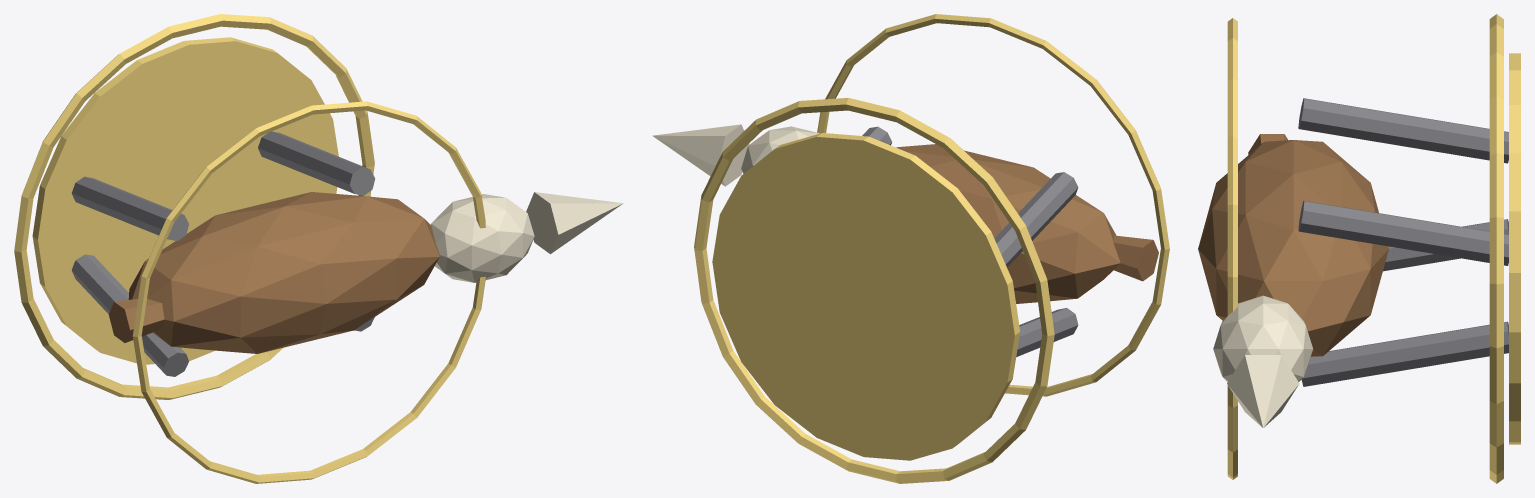
Rendered from city_rat_proxy.glb.
The picture shows the model from 3 angles, left to right: view 1: azimuth 30°, elevation 25°; view 2: azimuth 150°, elevation 25°; view 3: azimuth 270°, elevation 25°; orthographic projection. The views are drawn at different scales.
Parts seen in each view (by area): view 1: marker_disc, body, marker_ring, pounce_arc, head, leg_3, snout, leg_1, leg_0, tail; view 2: marker_disc, marker_ring, body, pounce_arc, snout, leg_1, tail, leg_0, head; view 3: body, marker_ring, leg_1, leg_3, leg_2, head, marker_disc, pounce_arc, snout, leg_0.
Part boxes in pixels (left/top/right/bottom): marker_disc: left=32, top=37, right=338, bottom=364; body: left=128, top=192, right=439, bottom=353; marker_ring: left=14, top=14, right=374, bottom=399; pounce_arc: left=132, top=101, right=485, bottom=483; head: left=431, top=194, right=534, bottom=282; leg_3: left=258, top=131, right=375, bottom=195; snout: left=526, top=192, right=623, bottom=254; leg_1: left=71, top=176, right=188, bottom=241; leg_0: left=71, top=254, right=188, bottom=376; tail: left=108, top=298, right=164, bottom=342; marker_disc: left=712, top=133, right=1020, bottom=460; marker_ring: left=694, top=98, right=1054, bottom=483; body: left=896, top=144, right=1120, bottom=303; pounce_arc: left=817, top=14, right=1169, bottom=396; snout: left=652, top=124, right=749, bottom=186; leg_1: left=994, top=172, right=1078, bottom=267; tail: left=1113, top=235, right=1158, bottom=281; leg_0: left=1016, top=308, right=1078, bottom=356; head: left=741, top=126, right=819, bottom=173; body: left=1198, top=140, right=1388, bottom=356; marker_ring: left=1489, top=14, right=1503, bottom=483; leg_1: left=1298, top=98, right=1508, bottom=163; leg_3: left=1298, top=200, right=1508, bottom=265; leg_2: left=1301, top=321, right=1508, bottom=386; head: left=1213, top=295, right=1312, bottom=381; marker_disc: left=1509, top=53, right=1520, bottom=444; pounce_arc: left=1227, top=18, right=1237, bottom=479; snout: left=1227, top=355, right=1299, bottom=427; leg_0: left=1383, top=219, right=1508, bottom=271.
Bounding box in the file's own units: 2.17 × 1.54 × 1.07.
